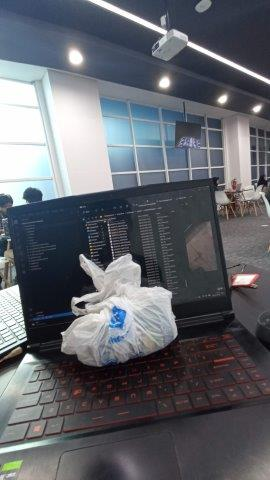plastik: (62, 255, 177, 365)
